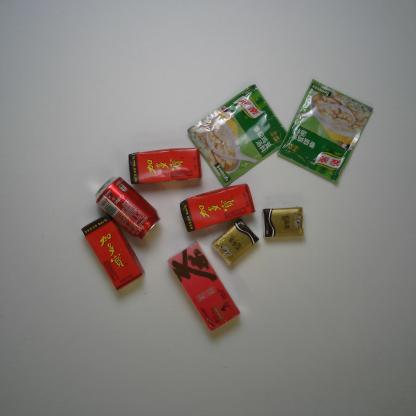Drink: (78, 210, 147, 293), (92, 173, 162, 242), (178, 181, 258, 234), (124, 146, 204, 186)
Instant Drink: (165, 238, 242, 335)
Seasoner: (274, 76, 376, 187), (184, 82, 289, 189)
Tissue: (209, 216, 262, 268), (260, 206, 306, 240)
